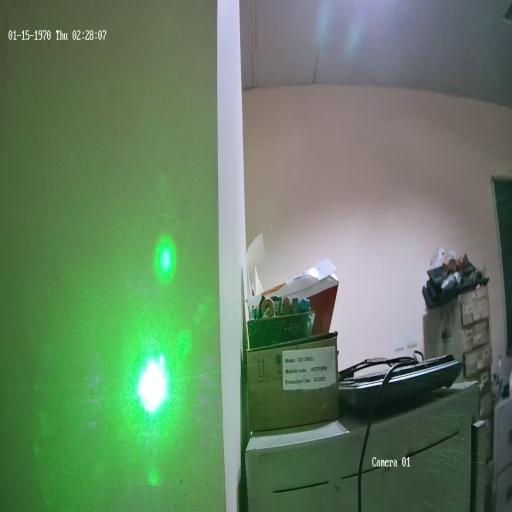laser: (129, 335, 172, 418)
